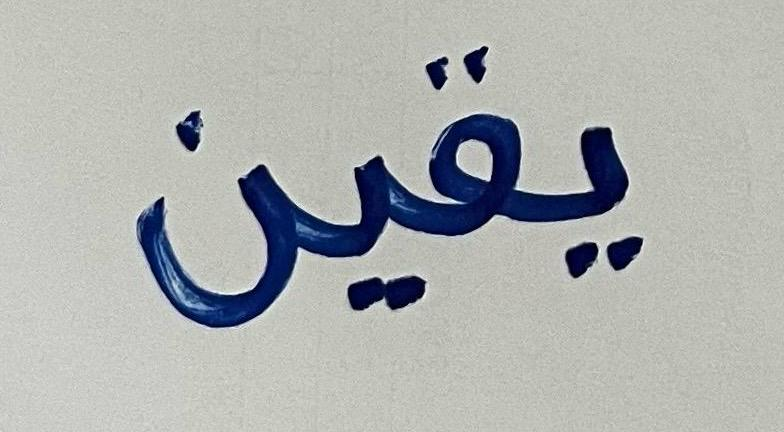noon: (116, 72, 301, 354)
qaf: (420, 31, 529, 269)
yeh: (531, 67, 685, 337), (304, 99, 414, 330)
